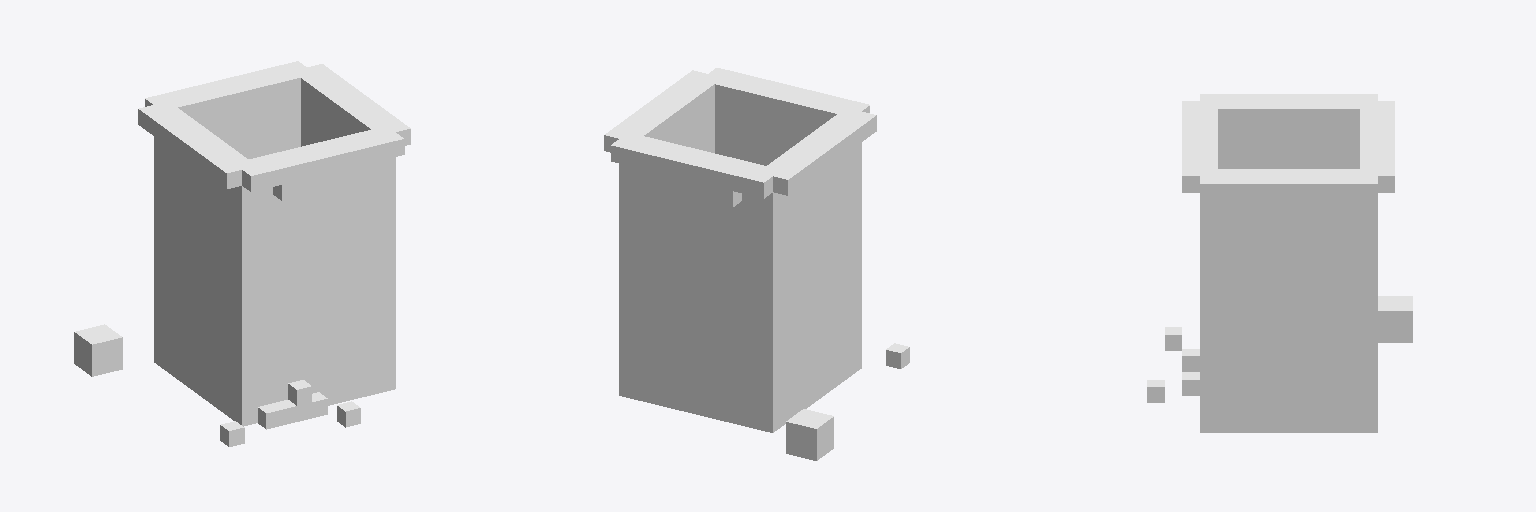
The model's file is rubbish1.obj.
3 renders of one model, left to right at view 1: azimuth 30°, elevation 25°; view 2: azimuth 150°, elevation 25°; view 3: azimuth 270°, elevation 25°, orthographic.
Bounding box in the file's own units: 0.75 × 0.8 × 0.75.